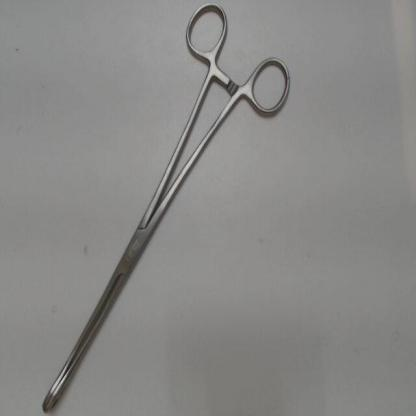Sponge Forceps: (38, 1, 296, 415)
